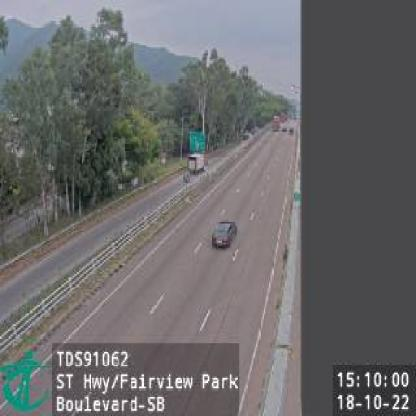Car: (212, 219, 238, 249)
Truck: (188, 152, 207, 176)
